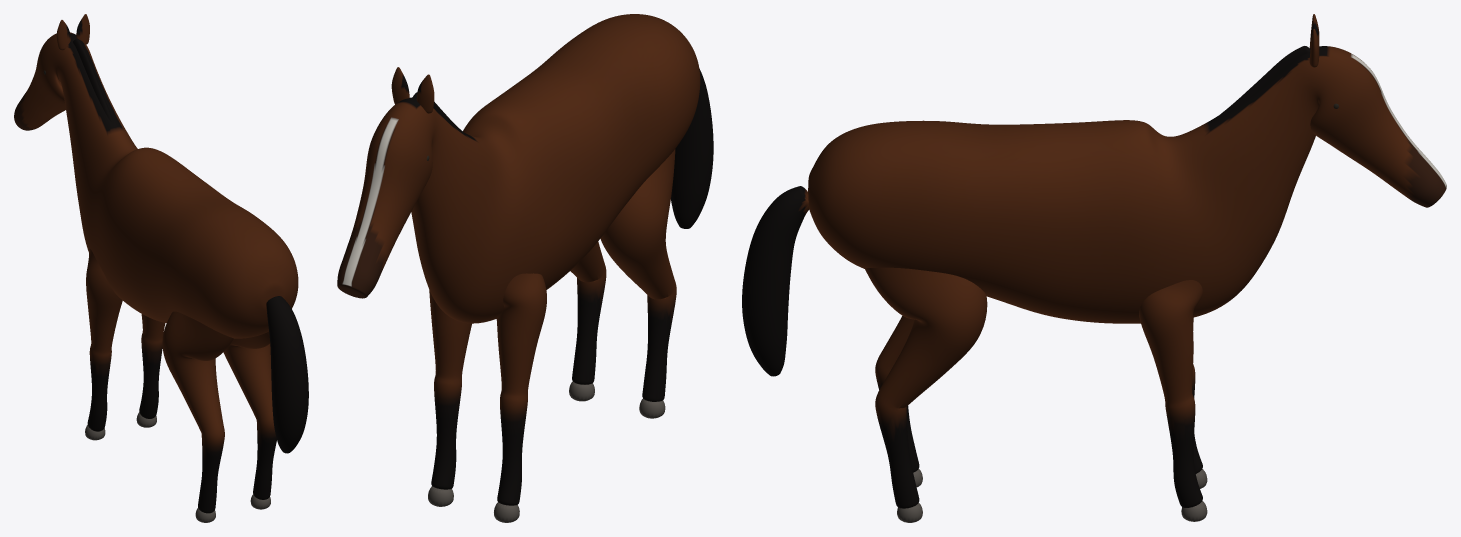
Rendered from horse_bay_standing.gltf.
3 views of the same model, side by side, from view 1: azimuth 30°, elevation 25°; view 2: azimuth 150°, elevation 25°; view 3: azimuth 270°, elevation 25° (orthographic). The views are drawn at different scales.
Parts seen in each view (by area): view 1: horse; view 2: horse; view 3: horse.
Part boxes in pixels (box(x1,y1,x2,y2)): horse: box(14, 14, 308, 522); horse: box(337, 14, 713, 522); horse: box(742, 14, 1446, 522).
Size of the model in its own units: 0.5945 by 2.12 by 2.8.
